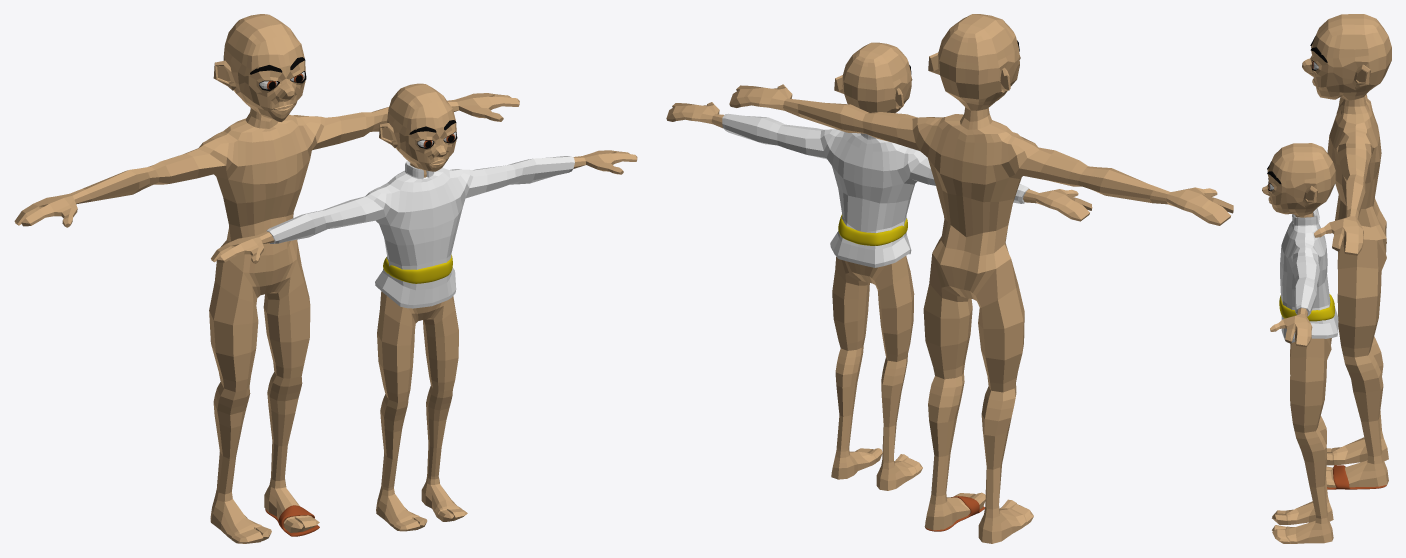
The model's file is Brothers_Smooth_Test.fbx.
3 renders of one model, left to right at view 1: azimuth 30°, elevation 25°; view 2: azimuth 150°, elevation 25°; view 3: azimuth 270°, elevation 25°, orthographic. The views are drawn at different scales.
Visible parts, largest first — view 1: Mesh_OB_Body, Mesh_YB_Body, Mesh_YB_Shirt, Mesh_YB_Belt; view 2: Mesh_OB_Body, Mesh_YB_Body, Mesh_YB_Shirt, Mesh_YB_Belt; view 3: Mesh_OB_Body, Mesh_YB_Body, Mesh_YB_Shirt, Mesh_YB_Belt, Cube.005.
Boxes of the visible parts, x1=… form: Mesh_OB_Body: x1=14, y1=14, x2=519, y2=543; Mesh_YB_Body: x1=211, y1=83, x2=637, y2=531; Mesh_YB_Shirt: x1=266, y1=156, x2=574, y2=308; Mesh_YB_Belt: x1=383, y1=254, x2=452, y2=283; Mesh_OB_Body: x1=729, y1=14, x2=1233, y2=543; Mesh_YB_Body: x1=666, y1=42, x2=1092, y2=490; Mesh_YB_Shirt: x1=722, y1=113, x2=1029, y2=267; Mesh_YB_Belt: x1=838, y1=214, x2=907, y2=245; Mesh_OB_Body: x1=1302, y1=14, x2=1391, y2=487; Mesh_YB_Body: x1=1262, y1=143, x2=1335, y2=543; Mesh_YB_Shirt: x1=1280, y1=208, x2=1338, y2=342; Mesh_YB_Belt: x1=1279, y1=294, x2=1334, y2=321; Cube.005: x1=1327, y1=465, x2=1386, y2=489.
Bounding box in the file's own units: 16.39 × 13.41 × 3.48.
